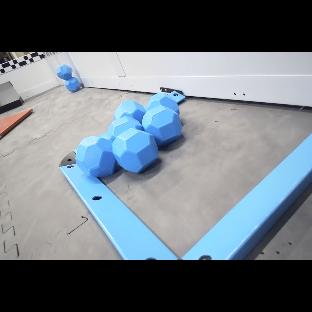Parking - Part: (61, 83, 298, 255)
